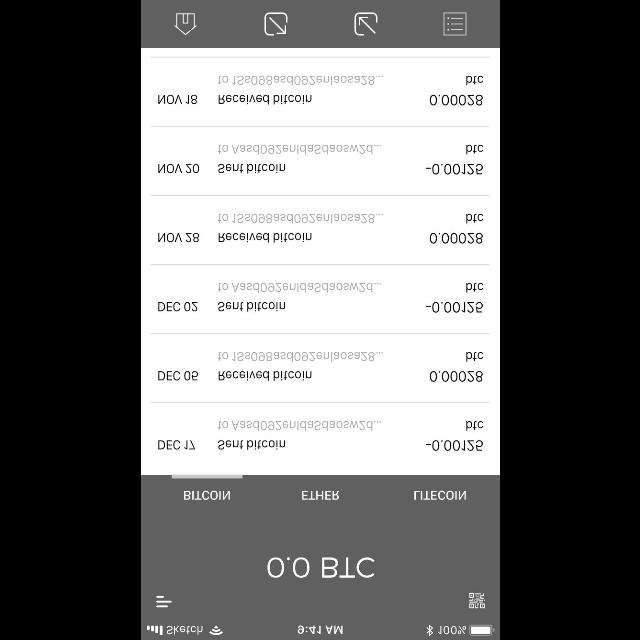icon: (354, 12, 378, 36), (264, 12, 288, 36), (444, 12, 466, 36), (174, 13, 196, 35), (468, 592, 486, 608), (156, 595, 172, 607)
multitab: (140, 474, 500, 514)
text: (266, 556, 376, 578), (217, 282, 381, 294), (424, 282, 484, 314), (424, 144, 484, 176), (428, 74, 484, 108), (216, 421, 380, 432), (426, 420, 484, 450), (430, 214, 484, 246), (428, 352, 484, 382), (218, 352, 384, 362), (218, 214, 382, 224), (218, 76, 382, 86), (218, 144, 380, 154), (218, 371, 310, 382), (218, 232, 310, 242), (218, 95, 310, 105), (218, 302, 286, 312), (218, 440, 284, 450), (218, 163, 284, 173), (414, 490, 466, 500), (183, 490, 230, 500), (157, 233, 199, 243), (158, 371, 198, 381), (158, 302, 198, 312), (158, 163, 198, 173), (158, 95, 196, 105), (158, 440, 195, 450), (302, 490, 338, 500)
uppertaskbar: (140, 623, 500, 639)
